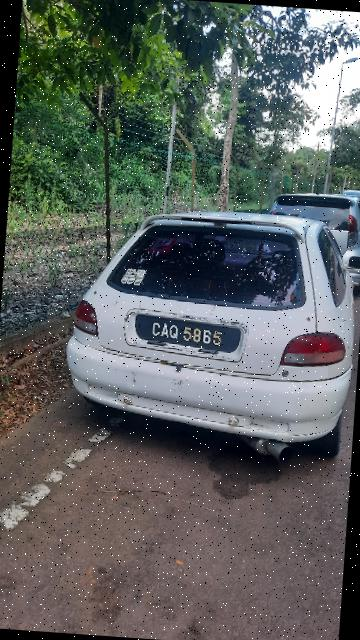License_Plate: (128, 309, 246, 358)
car: (54, 199, 360, 468)
